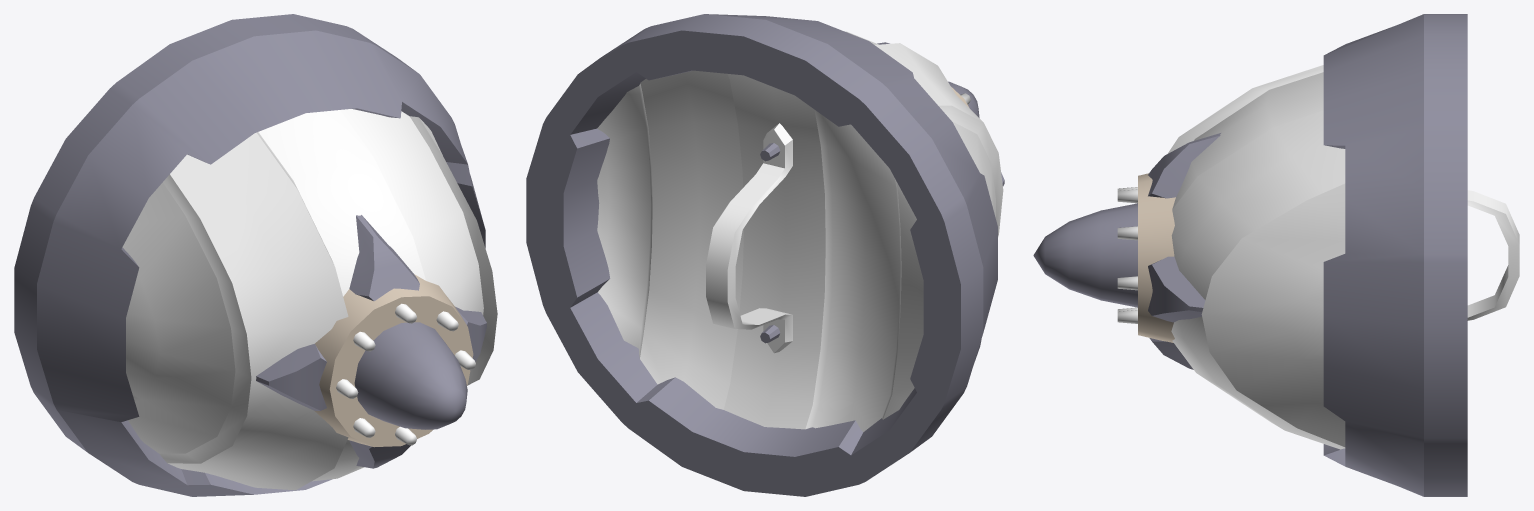
The model's file is shield.glb.
The picture shows the model from 3 angles, left to right: view 1: azimuth 30°, elevation 25°; view 2: azimuth 150°, elevation 25°; view 3: azimuth 270°, elevation 25°; orthographic projection. The views are drawn at different scales.
Visible parts, largest first — view 1: Shield_Wooden; view 2: Shield_Wooden; view 3: Shield_Wooden.
Boxes of the visible parts, bbox=[...] form: Shield_Wooden: bbox=[14, 14, 497, 496]; Shield_Wooden: bbox=[526, 14, 1004, 496]; Shield_Wooden: bbox=[1033, 14, 1519, 496].
Size of the model in its own units: 1 by 1 by 1.
